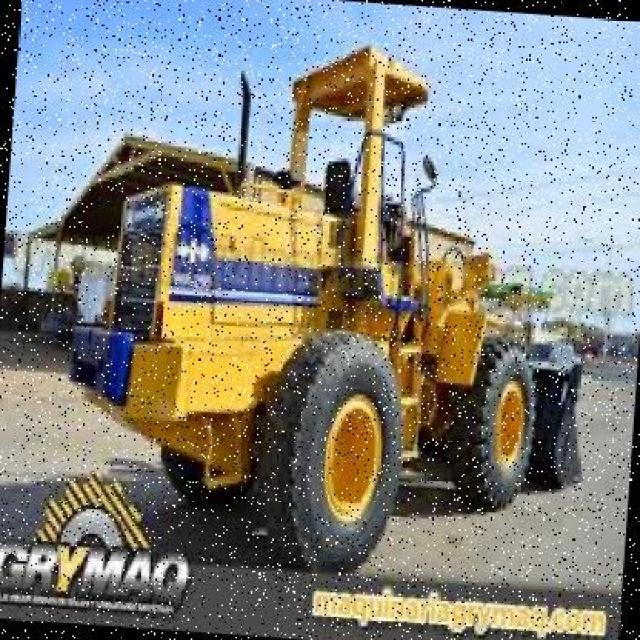buldozerpayloadergrader: (55, 21, 614, 572)
